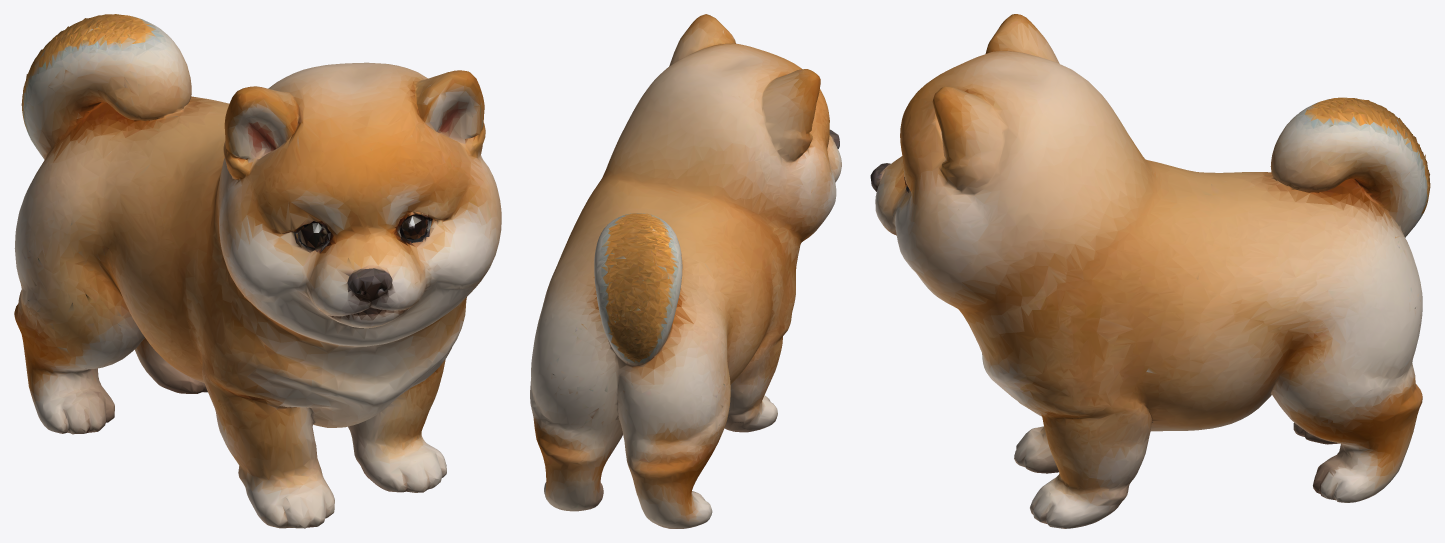
Rendered from pet_shiba.glb.
3 views of the same model, side by side, from view 1: azimuth 30°, elevation 25°; view 2: azimuth 150°, elevation 25°; view 3: azimuth 270°, elevation 25° (orthographic). The views are drawn at different scales.
Visible parts, largest first — view 1: shiba; view 2: shiba; view 3: shiba.
Part boxes in pixels (x1,y1,x2,y2): shiba: (14,14,501,528); shiba: (530,14,841,528); shiba: (870,14,1430,528).
Size of the model in its own units: 0.6646 by 1 by 1.2.
1 material, 1 textured.
